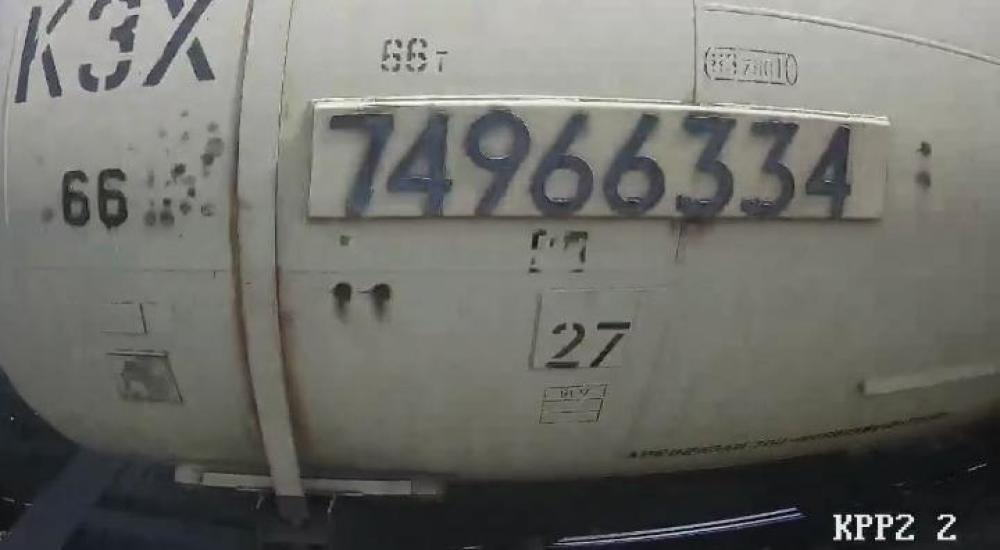Wagon-number: (322, 103, 863, 220)
